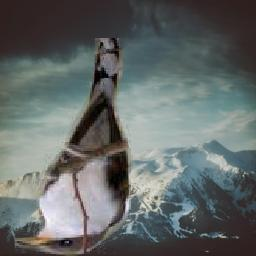Cuckoo: (15, 38, 133, 256)
